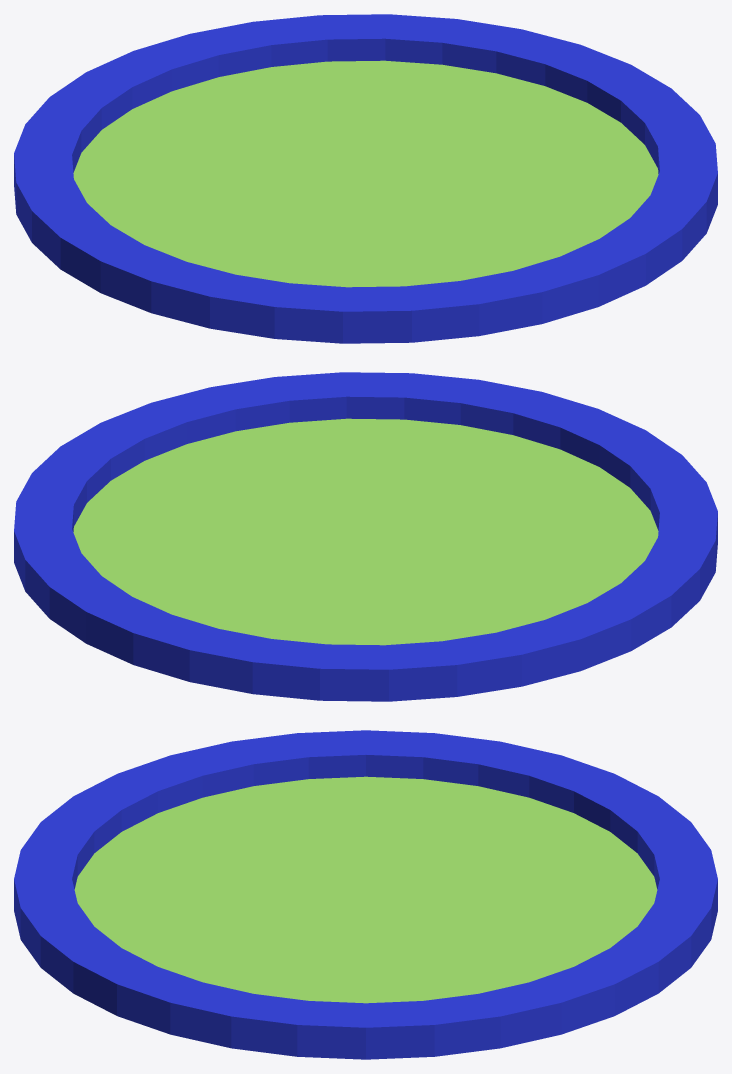
The model's file is location-2.glb.
3 views of the same model, one above another, from view 1: azimuth 30°, elevation 25°; view 2: azimuth 150°, elevation 25°; view 3: azimuth 270°, elevation 25° (orthographic).
Visible parts, largest first — view 1: Cylinder; view 2: Cylinder; view 3: Cylinder.
Part boxes in pixels (x1,y1,x2,y2): Cylinder: [14, 14, 717, 343]; Cylinder: [14, 372, 717, 701]; Cylinder: [14, 730, 717, 1059].
Bounding box in the file's own units: 10 × 0.5 × 10.
